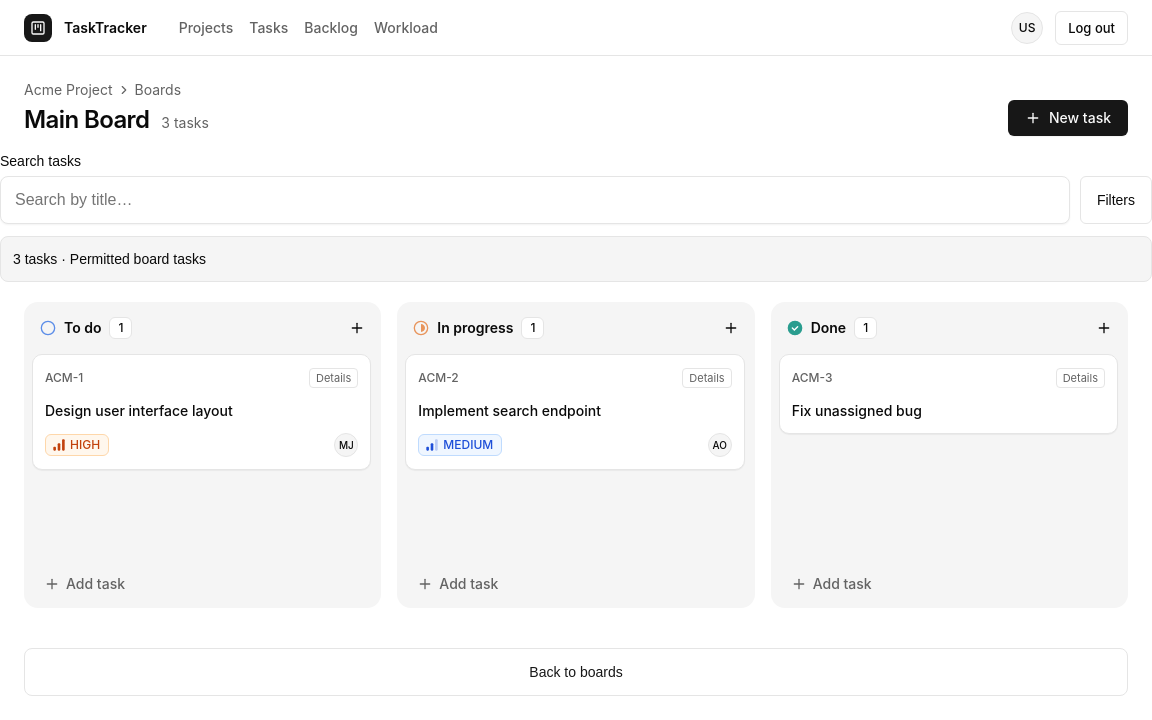
it: [US-36] Search and filter tasks on board acceptance tests › State 02 & 03: opens filter modal, selects member assignee, status, priority, and applies filters
Expected: the heading "Main Board" is shown, top-left (24, 104), bottom-right (149, 136)
Open filter modal
Click the button "Filters".
click(1116, 200)  # box top-left (1080, 176), bottom-right (1151, 224)
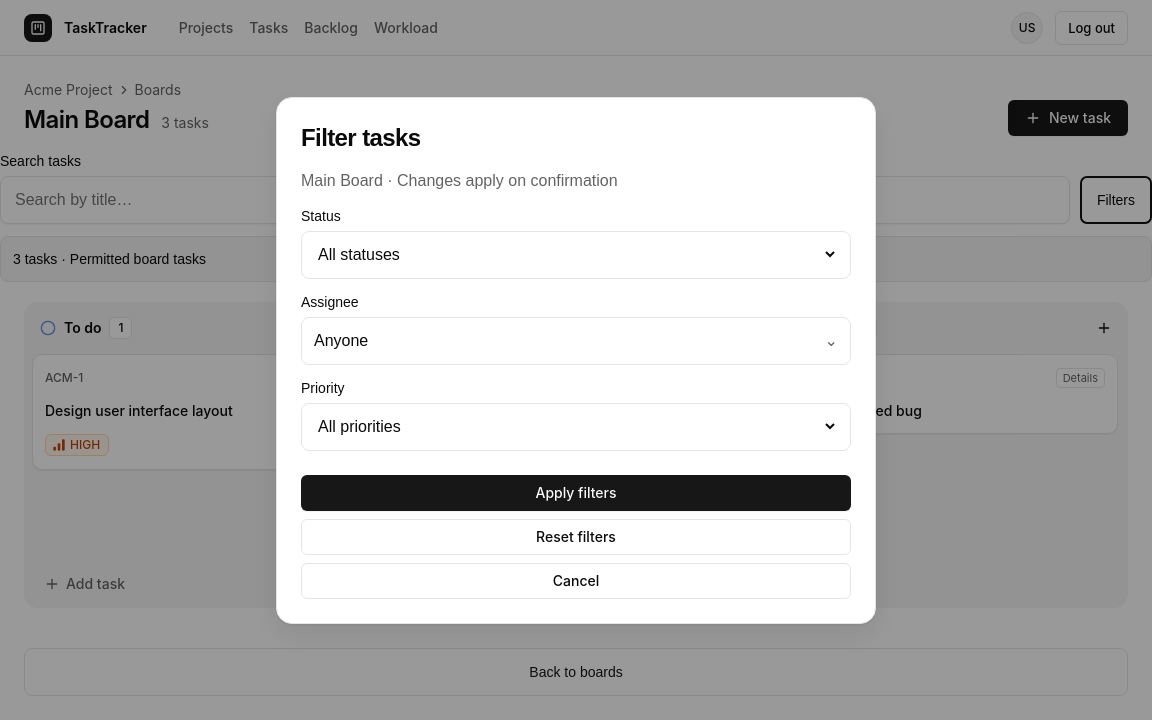
Now the dialog with test id "filter-tasks-modal" is shown
Select Status
Select "To do" in the dropdown with test id "filter-status-select" at (576, 254), box top-left (314, 245), bottom-right (838, 264)
Select Priority
Select "High" in the dropdown with test id "filter-priority-select" at (576, 426), box top-left (314, 417), bottom-right (838, 436)
Open Assignee Picker
Click the button with test id "filter-assignee-trigger".
click(341, 340)  # box top-left (301, 316), bottom-right (851, 364)
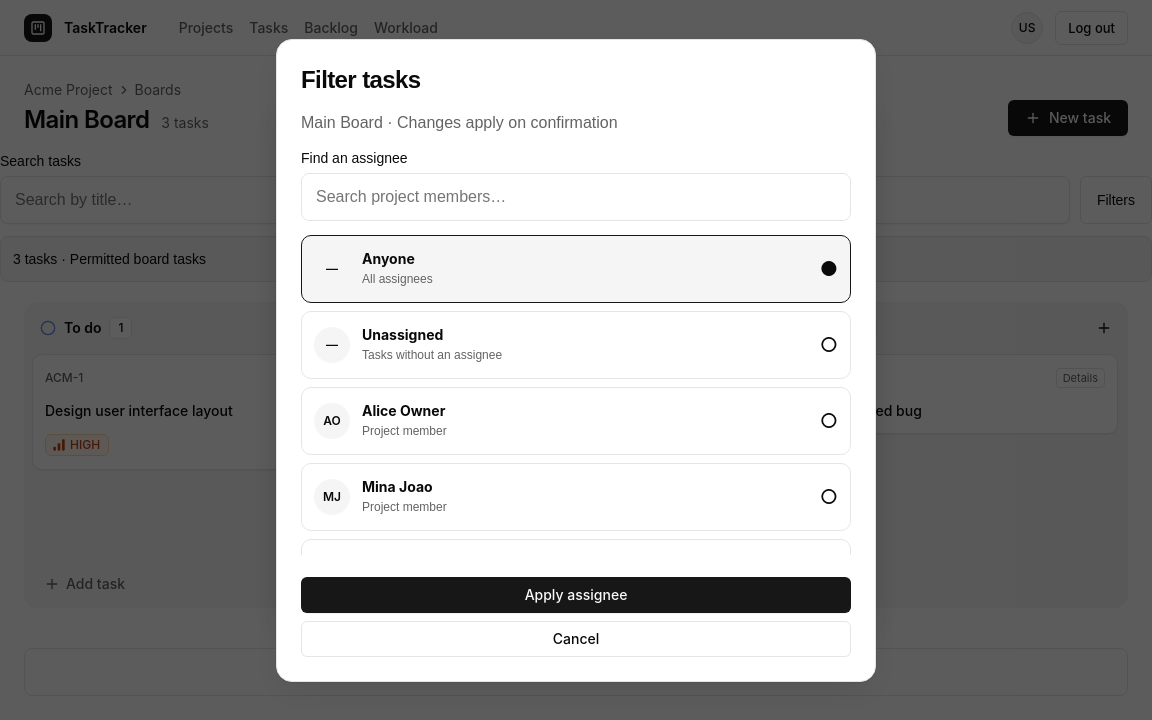
Now the dialog with test id "assignee-select-modal" is shown
Search inside assignee modal
Type "Mina" into the search field with test id "assignee-search-input".
click(576, 196); type("Mina")  # box top-left (314, 184), bottom-right (838, 208)
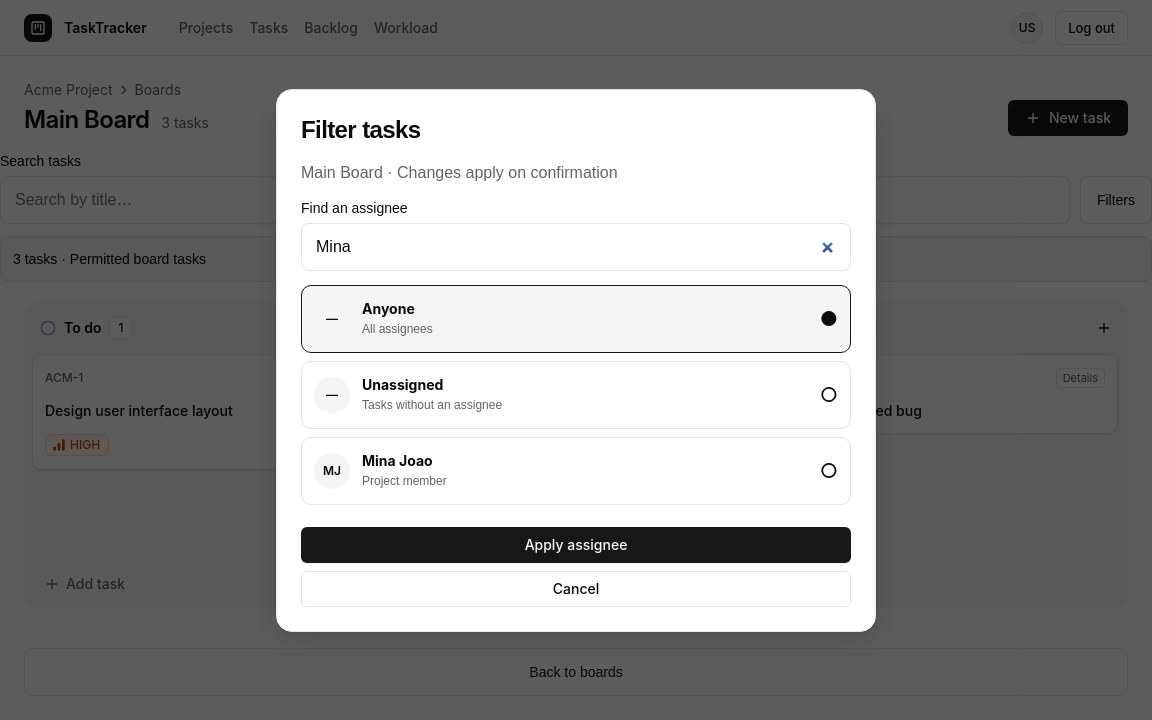
Now the text "Mina Joao" is shown, box top-left (362, 452), bottom-right (433, 470)
Select Mina Joao
Click the radio button with test id "assignee-opt-u-2".
click(332, 470)  # box top-left (301, 436), bottom-right (851, 504)
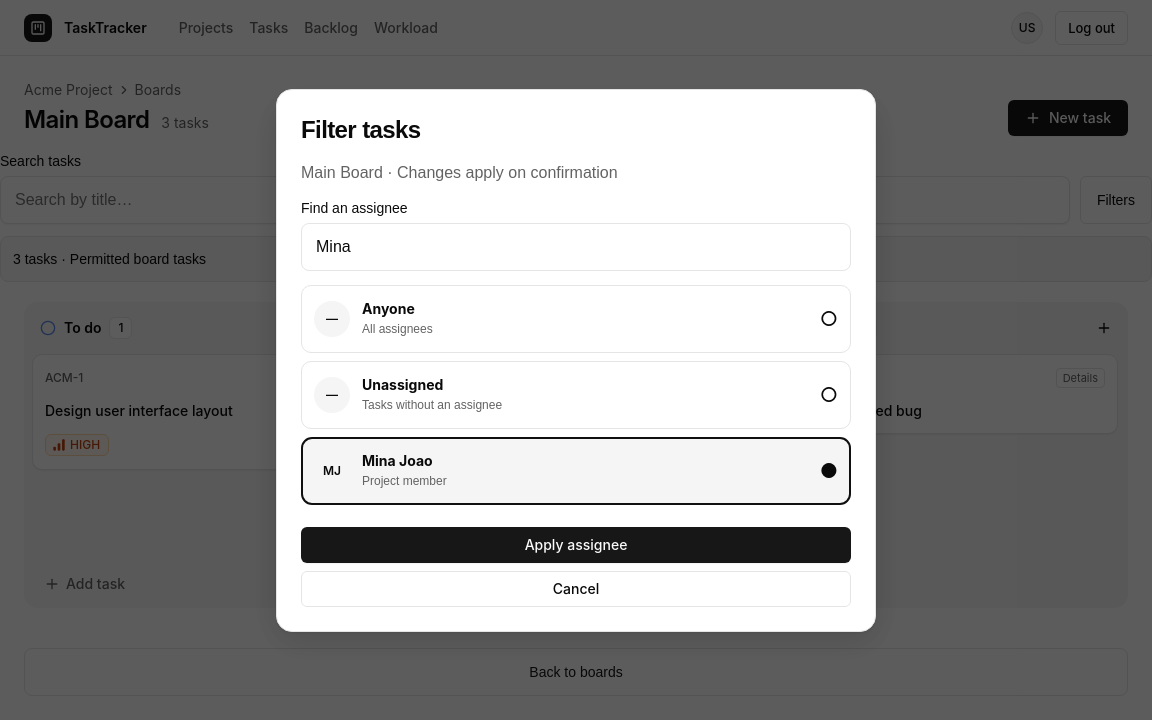
Click the button with test id "apply-assignee-btn".
click(576, 544)  # box top-left (301, 526), bottom-right (851, 562)
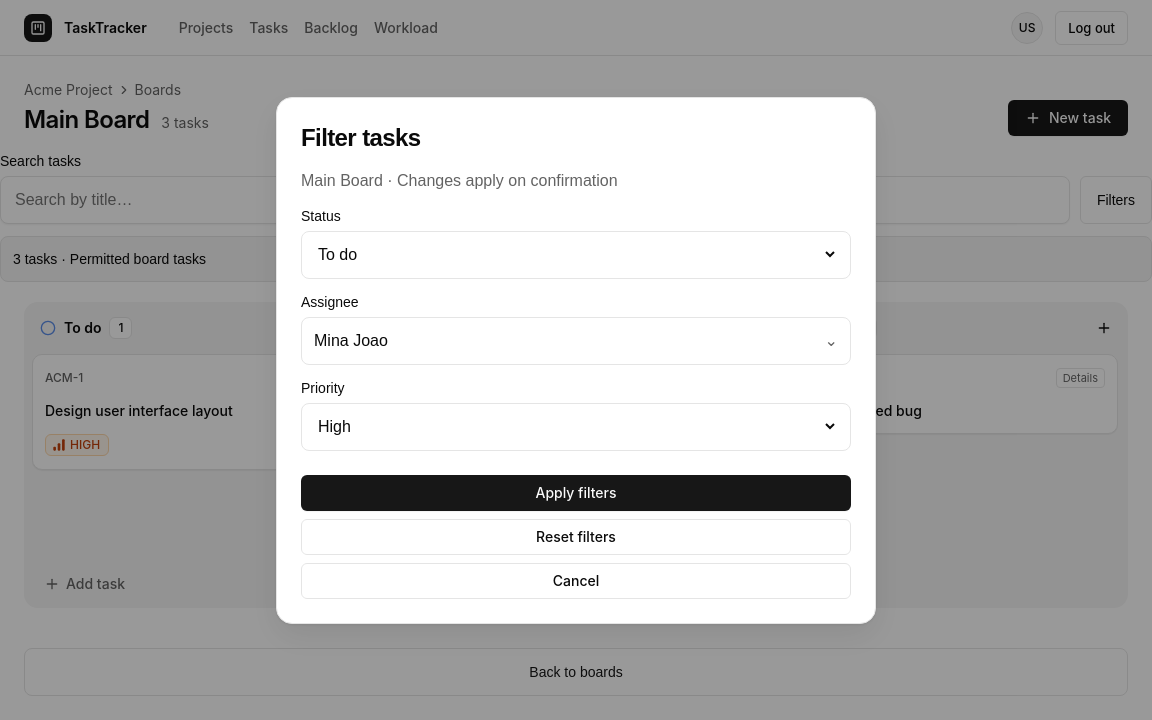
Now the dialog with test id "assignee-select-modal" is gone
Now the button with test id "filter-assignee-trigger" shows "Mina Joao", box top-left (301, 316), bottom-right (851, 364)
Apply filters
Click the button with test id "apply-filters-btn".
click(576, 492)  # box top-left (301, 474), bottom-right (851, 510)
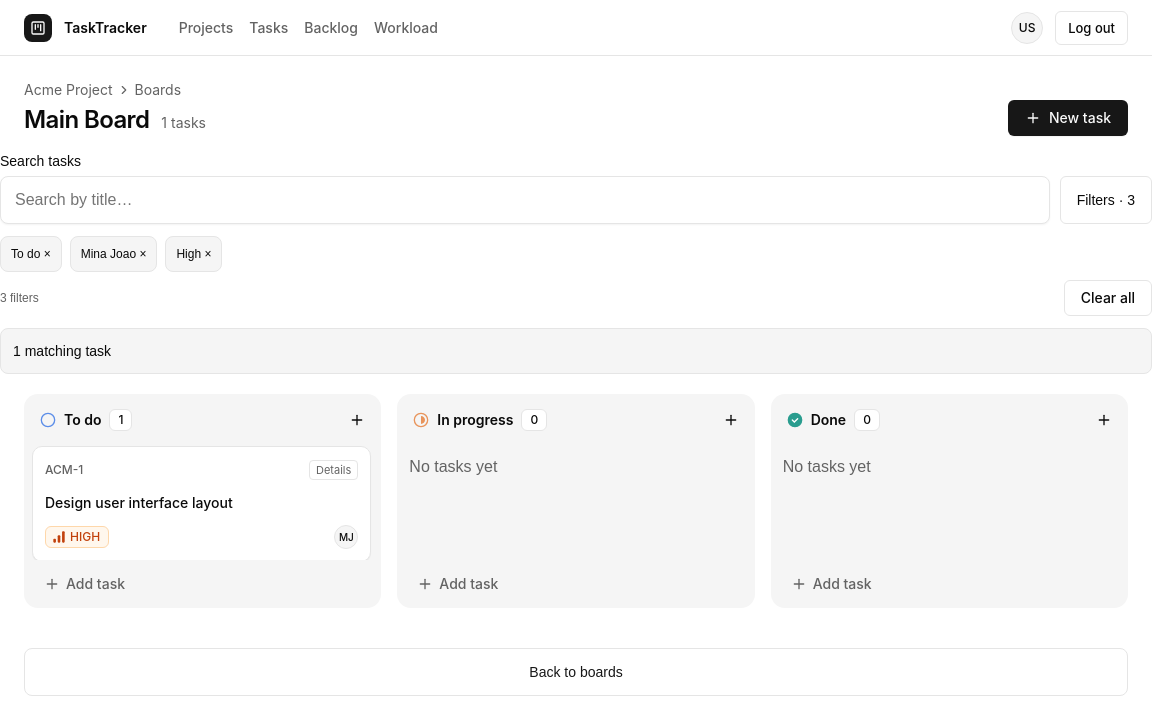
Now the text "1 matching task" is shown, box top-left (13, 341), bottom-right (111, 361)
